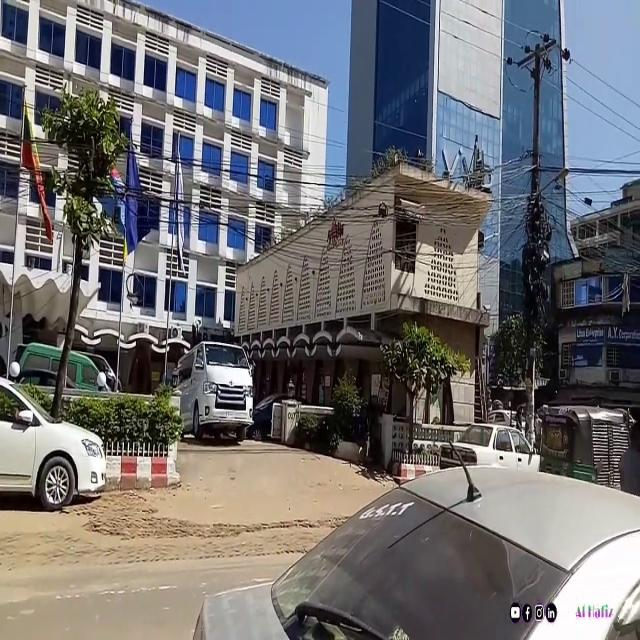white: (0, 372, 110, 509), (176, 338, 257, 442), (442, 422, 542, 475)
